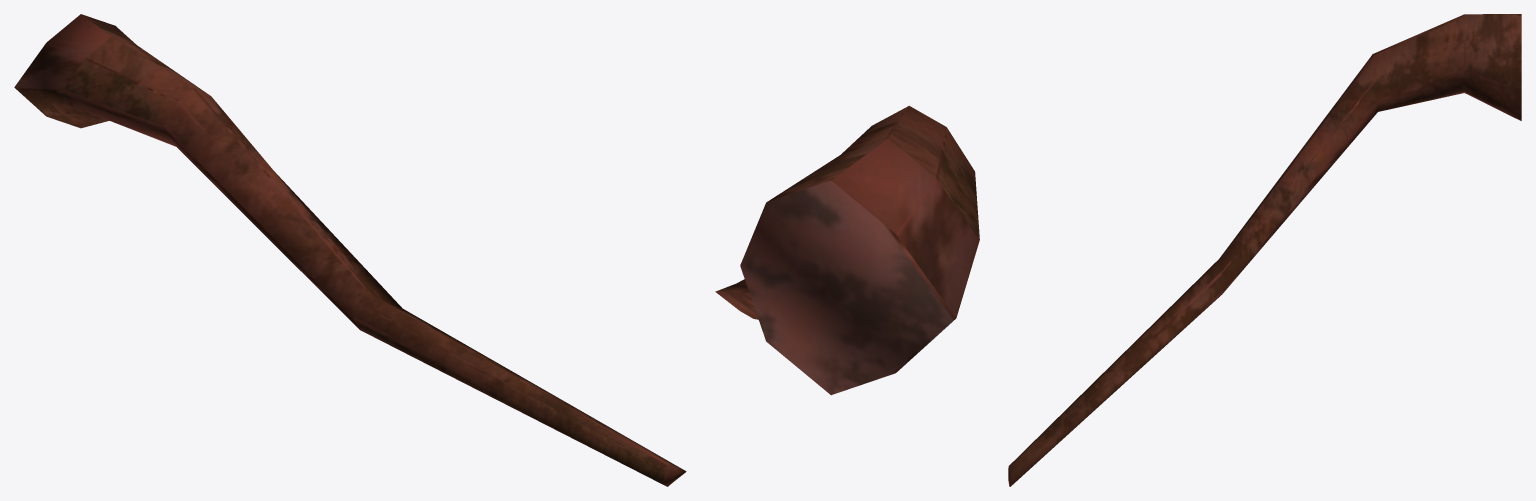
File: Gras_3.fbx
The picture shows the model from 3 angles, left to right: view 1: azimuth 30°, elevation 25°; view 2: azimuth 150°, elevation 25°; view 3: azimuth 270°, elevation 25°; orthographic projection. The views are drawn at different scales.
Parts seen in each view (by area): view 1: Gras_3; view 2: Gras_3; view 3: Gras_3.
Boxes of the visible parts, left/top/right/bottom form: Gras_3: left=14, top=14, right=686, bottom=486; Gras_3: left=715, top=105, right=979, bottom=395; Gras_3: left=1008, top=14, right=1521, bottom=486.
Bounding box in the file's own units: 0.6792 × 0.5672 × 0.8029.
Materials: 1 (1 with a texture image).
